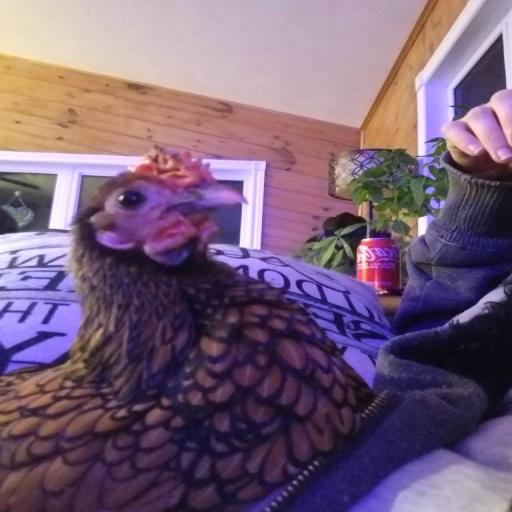disease: (41, 152, 239, 266)
